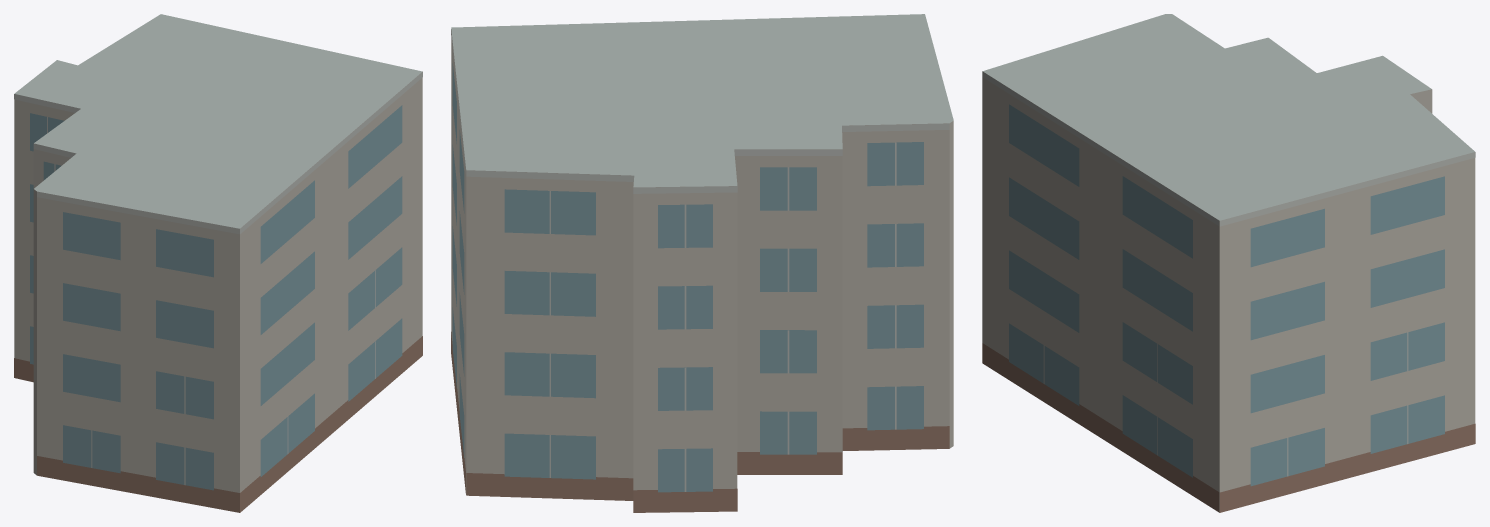
File: survey-upis-32776157.glb
3 views of the same model, side by side, from view 1: azimuth 30°, elevation 25°; view 2: azimuth 150°, elevation 25°; view 3: azimuth 270°, elevation 25° (orthographic). The views are drawn at different scales.
Parts seen in each view (by area): view 1: survey-upis-32776157.tmp; view 2: survey-upis-32776157.tmp; view 3: survey-upis-32776157.tmp.
Boxes of the visible parts, x1,y1,x2,y2 form: survey-upis-32776157.tmp: (14,14,422,512); survey-upis-32776157.tmp: (451,14,953,512); survey-upis-32776157.tmp: (982,14,1475,512).
Size of the model in its own units: 18.54 by 12.2 by 18.67.
